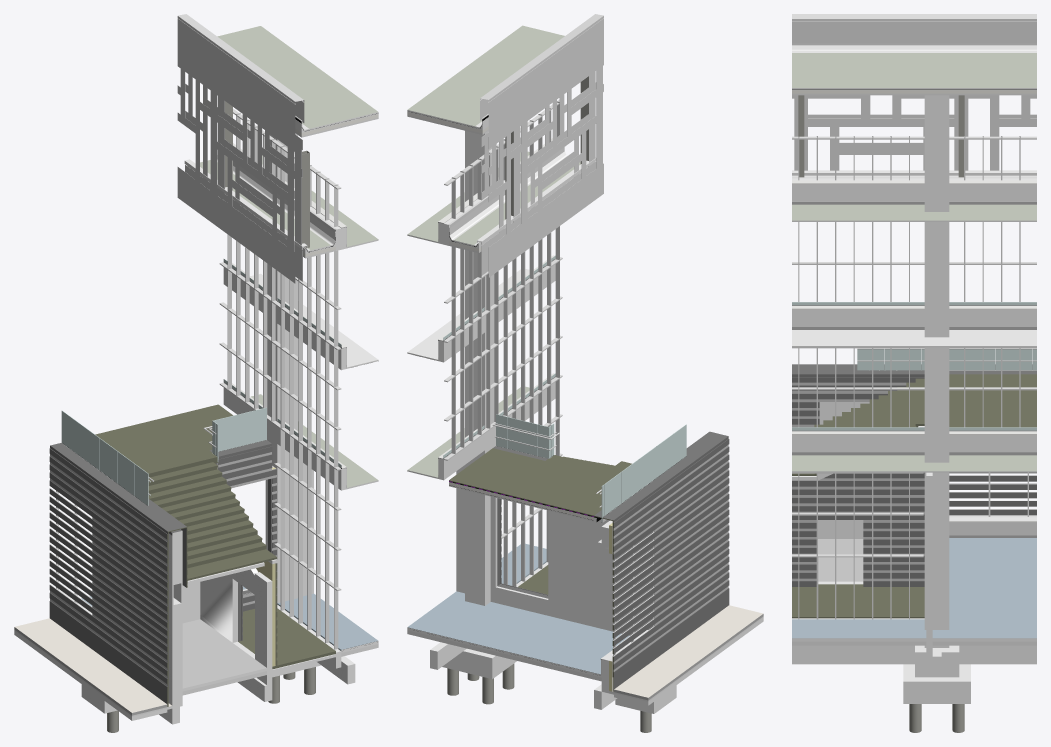
The model's file is yuncheng-c-03.glb.
The picture shows the model from 3 angles, left to right: view 1: azimuth 30°, elevation 25°; view 2: azimuth 150°, elevation 25°; view 3: azimuth 270°, elevation 25°; orthographic projection. The views are drawn at different scales.
Parts seen in each view (by area): view 1: 干挂黑色花岗岩, 616-材质-金属-银色, 铝合金压顶及封檐, 635-材质-石材-花岗岩, 001-内墙-涂料-白色, 646-材质-混凝土, 涂料－02, 屋面, 安全玻璃栏板, 513-场地-花岗岩硬地面-浅色, 225-楼地面-细石砼楼面, 花岗岩台阶 (+9 smaller); view 2: 001-内墙-涂料-白色, 铝合金压顶及封檐, 干挂黑色花岗岩, 616-材质-金属-银色, 橡胶板地面, 646-材质-混凝土, 635-材质-石材-花岗岩, 屋面, 安全玻璃栏板, 涂料－02, 513-场地-花岗岩硬地面-浅色, 647-材质-水泥砂浆 (+6 smaller); view 3: 001-内墙-涂料-白色, 干挂黑色花岗岩, 铝合金压顶及封檐, 646-材质-混凝土, 橡胶板地面, 616-材质-金属-银色, 屋面, 207-楼地面-瓷砖-浅色, 635-材质-石材-花岗岩, 647-材质-水泥砂浆, 安全玻璃栏板, 涂料－02 (+9 smaller).
Part boxes in pixels (<box>): 干挂黑色花岗岩: <box>49,440,277,703</box>; 616-材质-金属-银色: <box>148,109,341,649</box>; 铝合金压顶及封檐: <box>177,14,304,283</box>; 635-材质-石材-花岗岩: <box>95,404,277,706</box>; 001-内墙-涂料-白色: <box>50,133,341,667</box>; 646-材质-混凝土: <box>14,112,378,724</box>; 涂料－02: <box>50,452,276,686</box>; 屋面: <box>217,26,377,128</box>; 安全玻璃栏板: <box>61,259,341,505</box>; 513-场地-花岗岩硬地面-浅色: <box>15,618,171,712</box>; 225-楼地面-细石砼楼面: <box>182,619,266,688</box>; 花岗岩台阶: <box>238,608,335,669</box>; 001-内墙-涂料-白色: <box>444,131,654,656</box>; 铝合金压顶及封檐: <box>480,14,603,277</box>; 干挂黑色花岗岩: <box>493,431,729,688</box>; 616-材质-金属-银色: <box>444,99,601,586</box>; 橡胶板地面: <box>408,543,629,674</box>; 646-材质-混凝土: <box>407,110,763,713</box>; 635-材质-石材-花岗岩: <box>449,448,631,691</box>; 屋面: <box>407,25,564,126</box>; 安全玻璃栏板: <box>443,255,686,522</box>; 涂料－02: <box>613,445,728,671</box>; 513-场地-花岗岩硬地面-浅色: <box>613,605,762,697</box>; 647-材质-水泥砂浆: <box>407,111,763,701</box>; 001-内墙-涂料-白色: <box>792,95,1036,677</box>; 干挂黑色花岗岩: <box>792,364,1036,586</box>; 铝合金压顶及封檐: <box>792,14,1036,170</box>; 646-材质-混凝土: <box>792,45,1036,703</box>; 橡胶板地面: <box>792,538,1036,638</box>; 616-材质-金属-银色: <box>792,136,1036,619</box>; 屋面: <box>792,53,1036,87</box>; 207-楼地面-瓷砖-浅色: <box>792,204,1036,471</box>; 635-材质-石材-花岗岩: <box>792,374,1036,475</box>; 647-材质-水泥砂浆: <box>792,43,1036,645</box>; 安全玻璃栏板: <box>792,302,1036,430</box>; 涂料－02: <box>792,382,924,580</box>.
Size of the model in its own units: 2.55 by 6.44 by 2.11.
29 materials, 1 textured.
